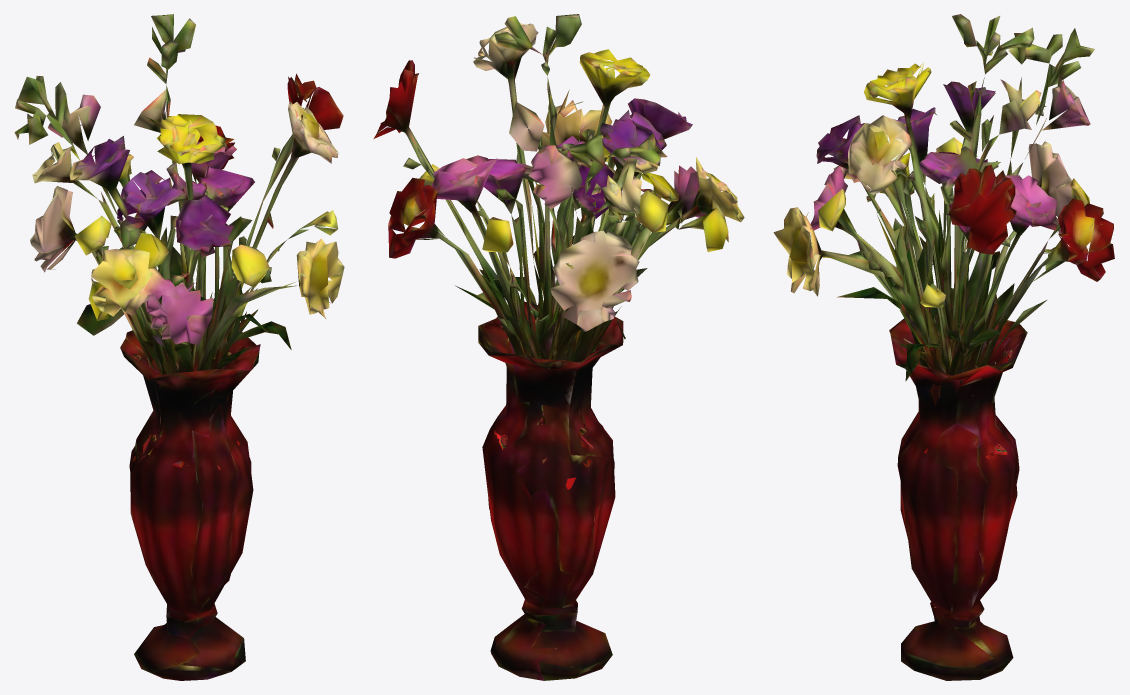
The model's file is florero.movil.glb.
3 views of the same model, side by side, from view 1: azimuth 30°, elevation 25°; view 2: azimuth 150°, elevation 25°; view 3: azimuth 270°, elevation 25° (orthographic). The views are drawn at different scales.
Visible parts, largest first — view 1: geometry_0; view 2: geometry_0; view 3: geometry_0.
Boxes of the visible parts, bbox=[...] form: geometry_0: bbox=[14, 14, 344, 680]; geometry_0: bbox=[373, 14, 744, 680]; geometry_0: bbox=[773, 14, 1114, 680].
Bounding box in the file's own units: 0.22 × 0.4497 × 0.22.
Materials: 1 (1 with a texture image).
